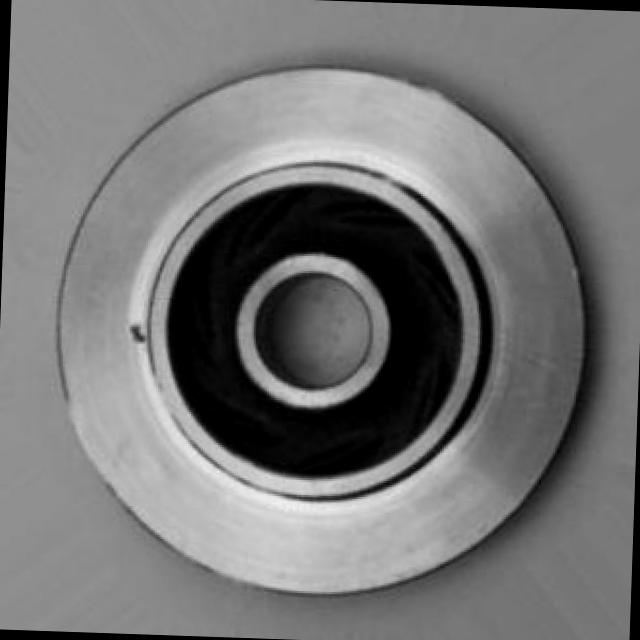Defect: (122, 319, 152, 346)
